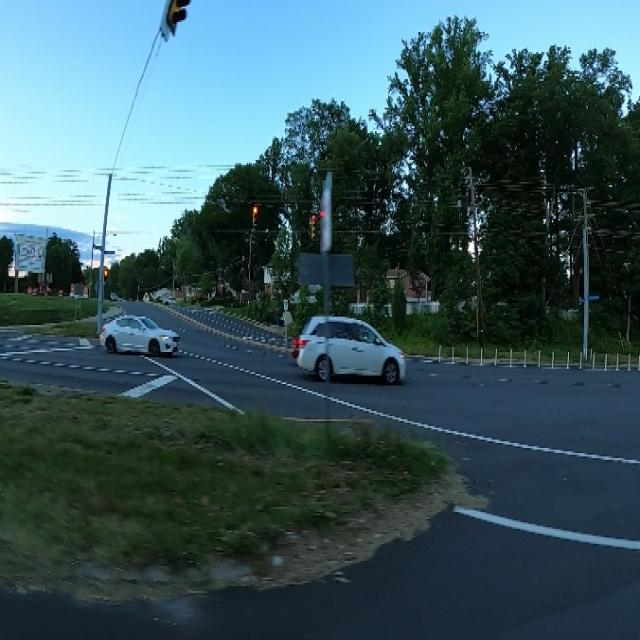cars: (292, 308, 407, 390), (92, 305, 178, 372), (107, 289, 120, 308)
